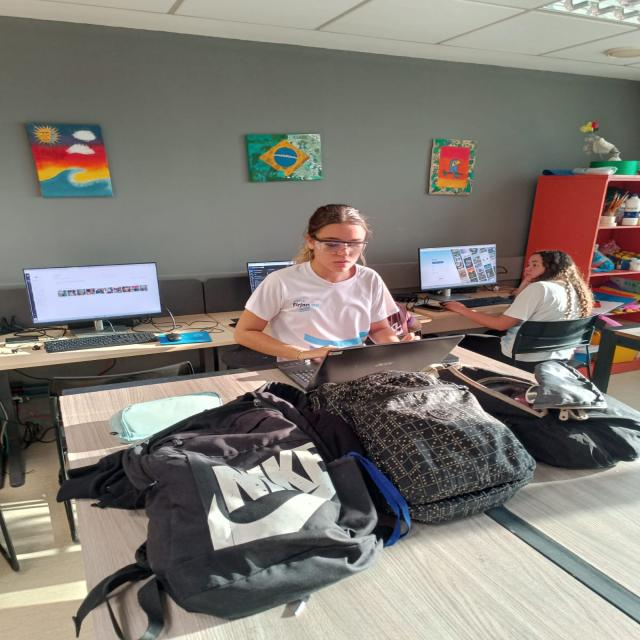oculos-epi: (313, 235, 365, 256)
sem_oculos: (520, 259, 563, 272)
